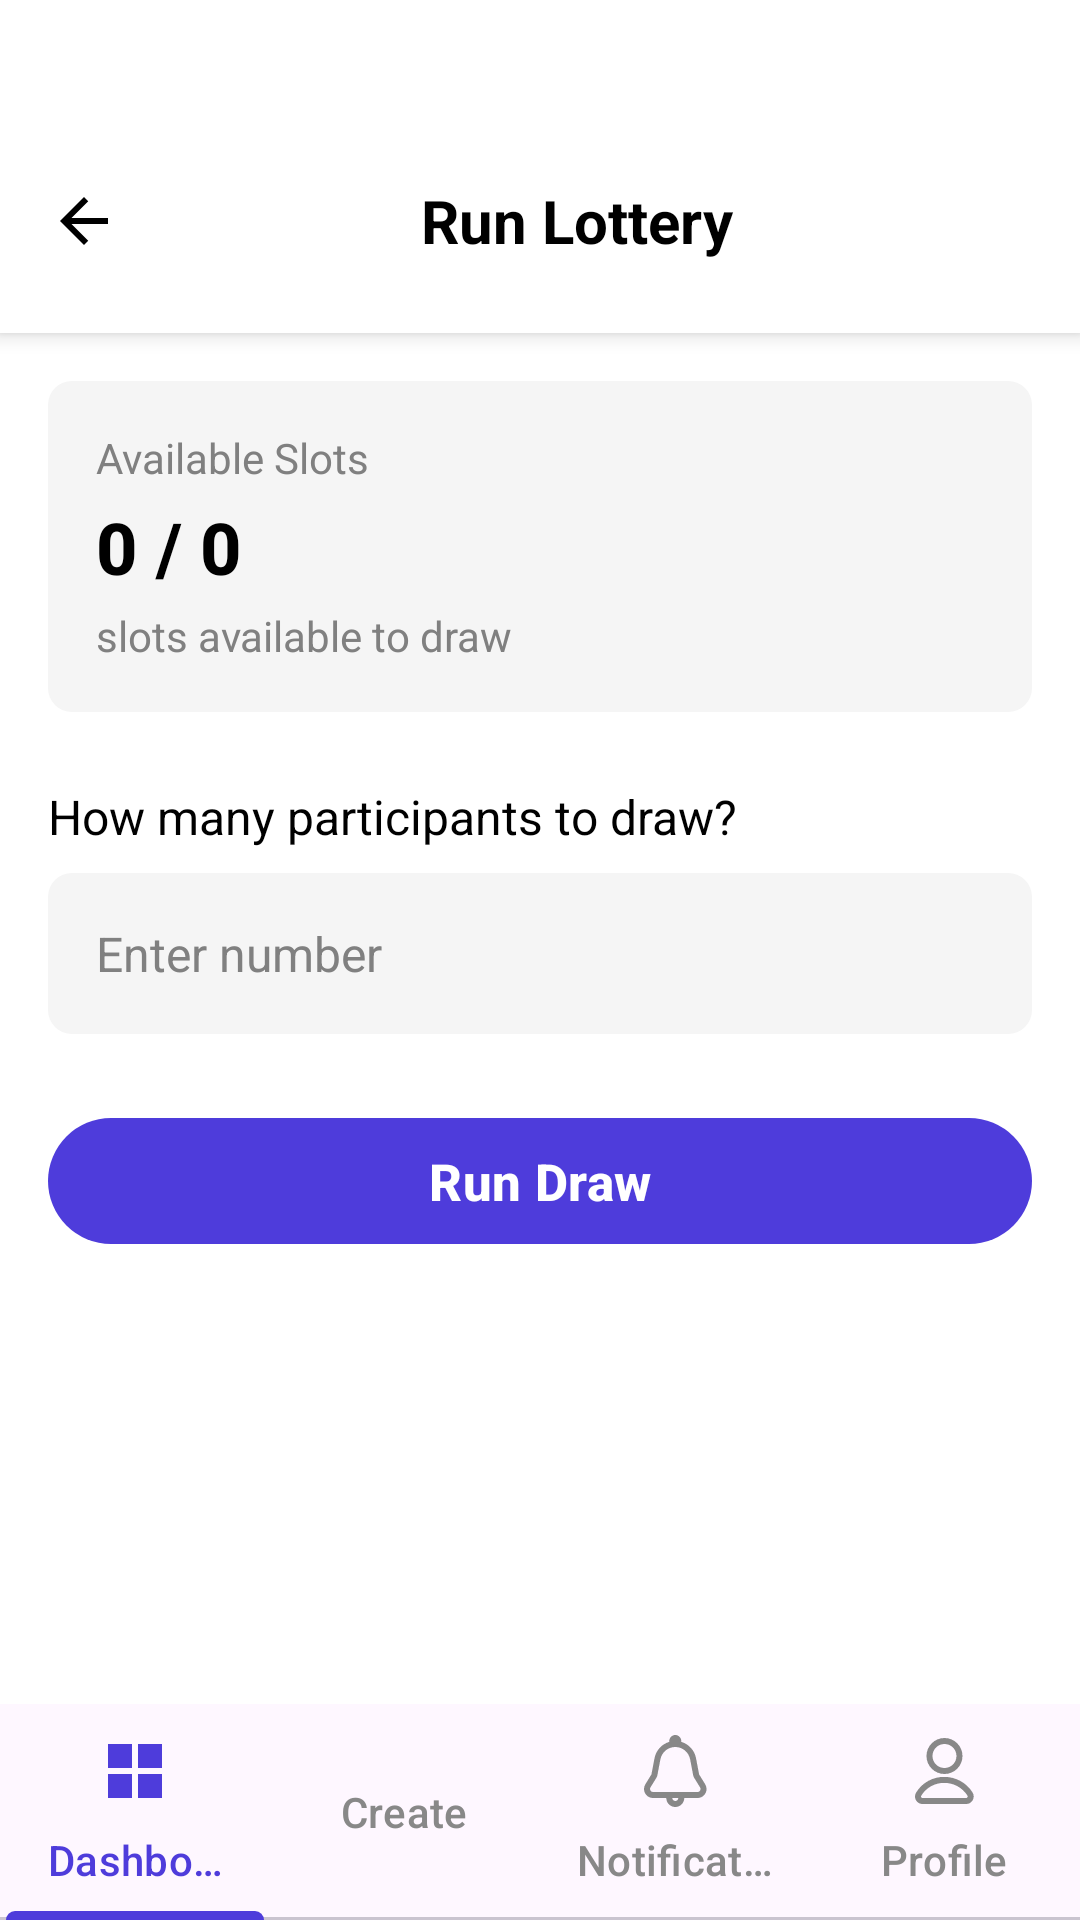

Point at icon controls on the screen. Image size 1080 × 1920, points as (x=x, y=y).
Back: (x=84, y=221)
